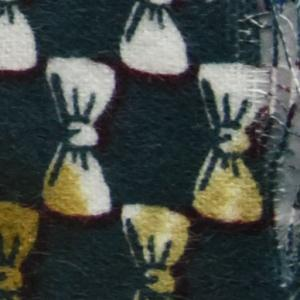Damage: (245, 1, 300, 300)
Stain: (136, 124, 270, 300), (1, 157, 89, 300)
